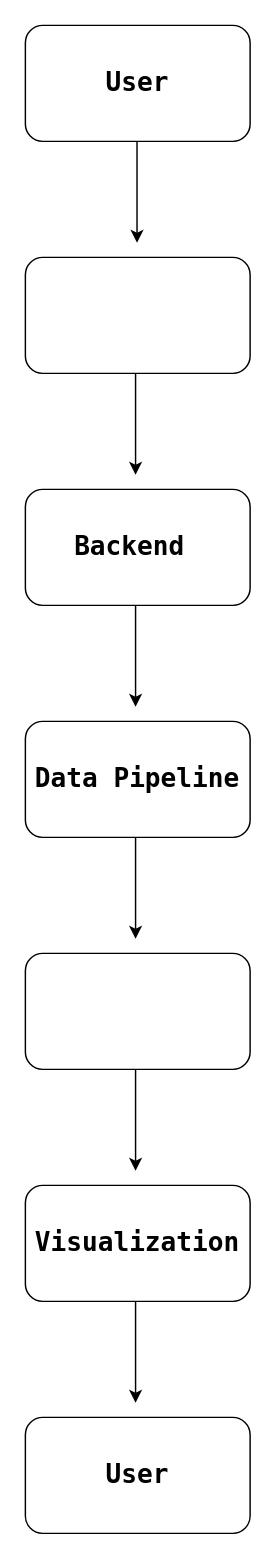
The diagram is 276 pixels wide and 1559 high, and some of its shapes have lost their labels. Here are the shapes that lost their labels. From the top down, the centre of each, then its label:
At point 137,314: "Dashboard UI".
At point 137,1010: "ML Model".
